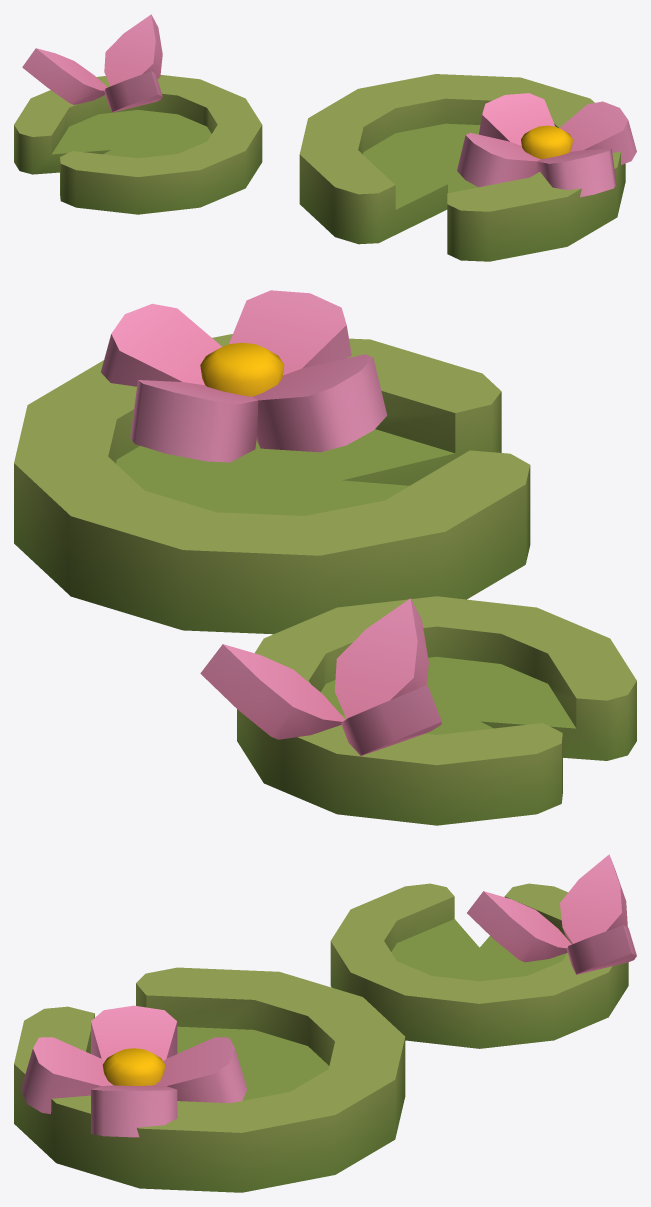
Rendered from lilywater.glb.
The picture shows the model from 3 angles, top to bottom: view 1: azimuth 30°, elevation 25°; view 2: azimuth 150°, elevation 25°; view 3: azimuth 270°, elevation 25°; orthographic projection. The views are drawn at different scales.
Visible parts, largest first — view 1: Node1; view 2: Node1; view 3: Node1.
Part boxes in pixels (box(x1,y1,x2,y2)): Node1: box(14, 14, 636, 261); Node1: box(14, 290, 636, 825); Node1: box(14, 854, 636, 1192).
Bounding box in the file's own units: 0.3989 × 0.0729 × 0.3974.
Materials: 1 (1 with a texture image).
